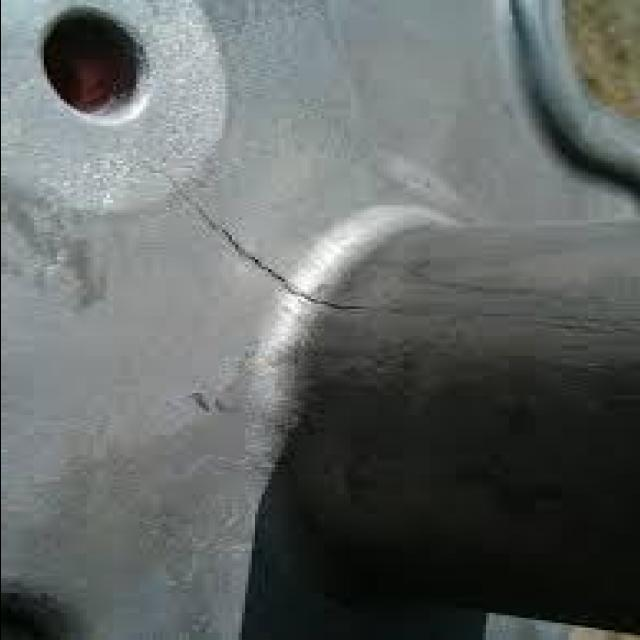defect: (140, 163, 375, 313)
